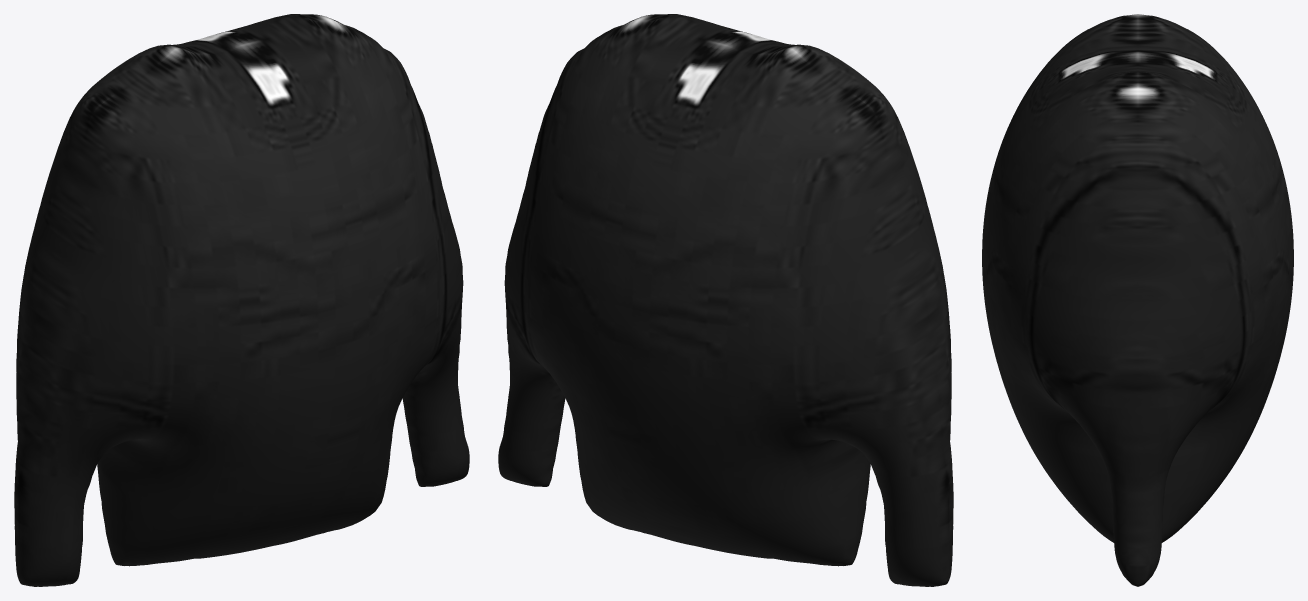
Rendered from cloth@28=cloth_front.glb.
The picture shows the model from 3 angles, left to right: view 1: azimuth 30°, elevation 25°; view 2: azimuth 150°, elevation 25°; view 3: azimuth 270°, elevation 25°; orthographic projection. The views are drawn at different scales.
Size of the model in its own units: 7.08 by 7.71 by 4.75.
1 material, 1 textured.
